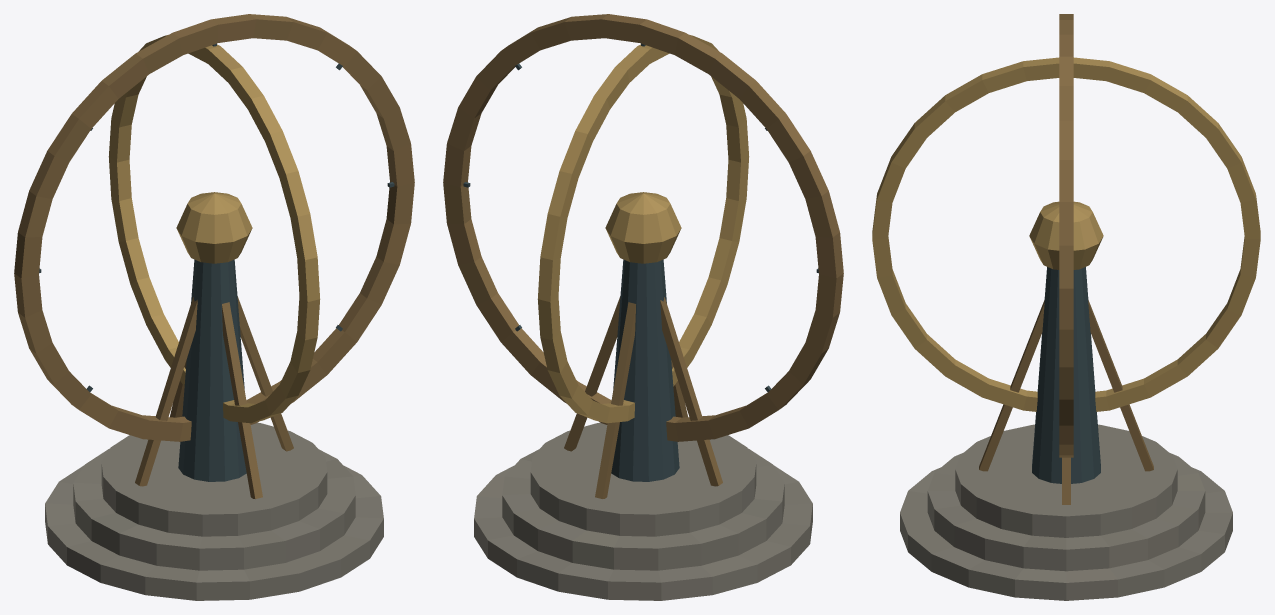
Rendered from Building_Landmark_Armillary_001.glb.
3 renders of one model, left to right at view 1: azimuth 30°, elevation 25°; view 2: azimuth 150°, elevation 25°; view 3: azimuth 270°, elevation 25°, orthographic. The views are drawn at different scales.
Parts seen in each view (by area): view 1: Building_Landmark_Armillary_001; view 2: Building_Landmark_Armillary_001; view 3: Building_Landmark_Armillary_001.
Part boxes in pixels (x1,y1,x2,y2): Building_Landmark_Armillary_001: (14, 14, 414, 600); Building_Landmark_Armillary_001: (443, 14, 843, 600); Building_Landmark_Armillary_001: (872, 14, 1260, 600).
Bounding box in the file's own units: 5.6 × 6.9 × 4.9.
